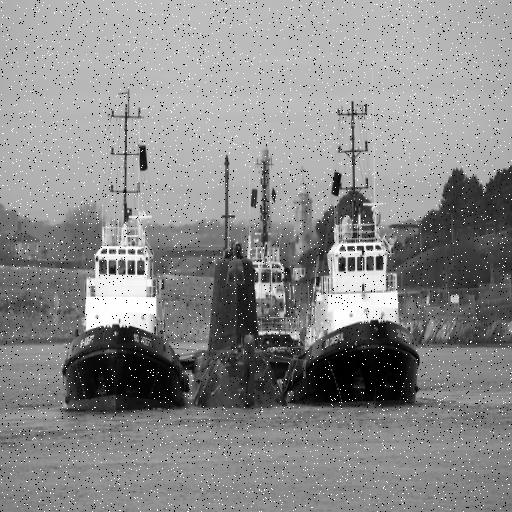submarine: (201, 138, 282, 424)
